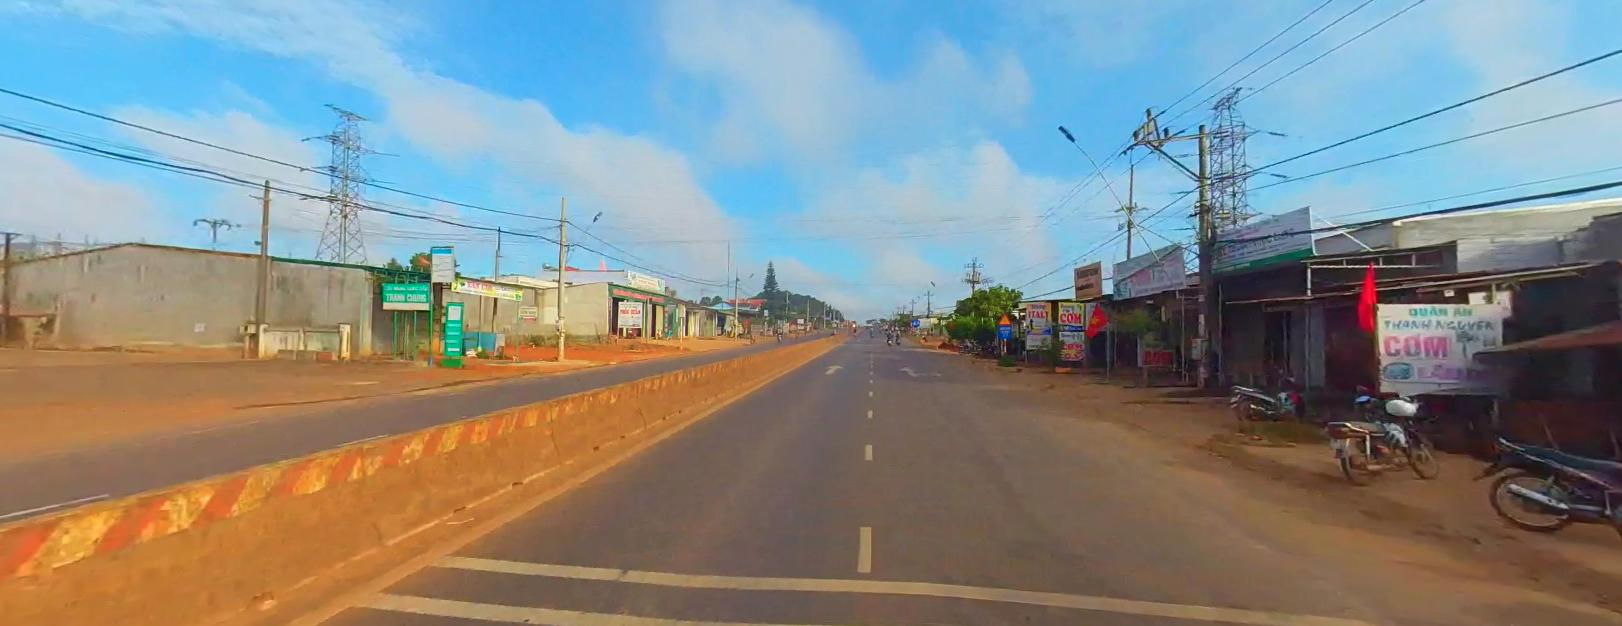Nguy hiem: (997, 312, 1010, 323)
